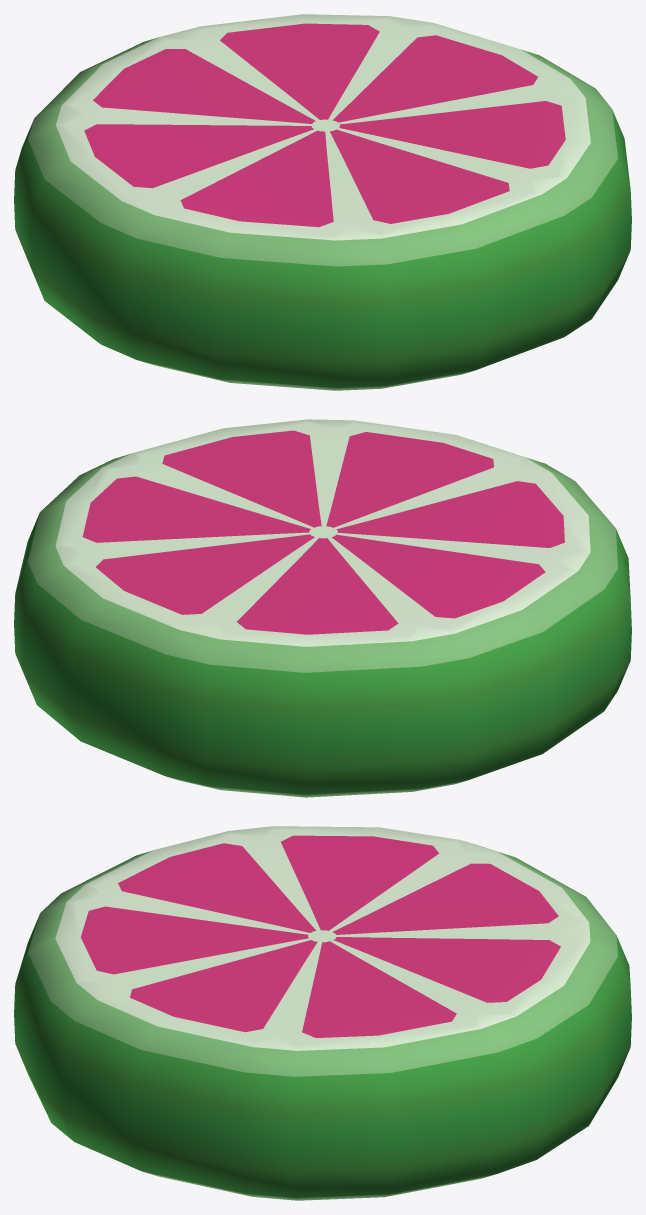
Rendered from candy_hard_1.fbx.
The picture shows the model from 3 angles, top to bottom: view 1: azimuth 30°, elevation 25°; view 2: azimuth 150°, elevation 25°; view 3: azimuth 270°, elevation 25°; orthographic projection.
Parts seen in each view (by area): view 1: c_h_1; view 2: c_h_1; view 3: c_h_1.
Part boxes in pixels (bbox=[...]): c_h_1: bbox=[14, 14, 631, 390]; c_h_1: bbox=[14, 419, 631, 797]; c_h_1: bbox=[14, 826, 631, 1200].
Bounding box in the file's own units: 157 × 42.99 × 158.
